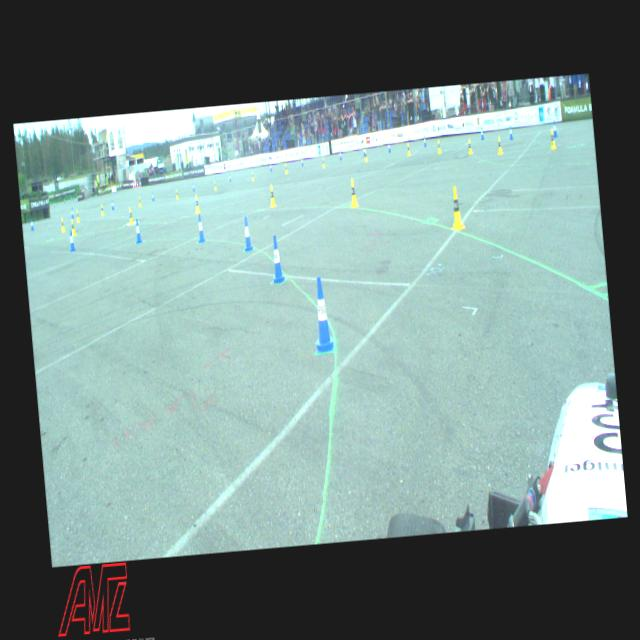blue_cone: (311, 276, 334, 352), (270, 235, 284, 282), (242, 216, 252, 250), (195, 213, 205, 242), (134, 218, 142, 242), (68, 230, 74, 250), (552, 121, 557, 137), (508, 124, 513, 139), (29, 218, 34, 230), (480, 126, 484, 139), (110, 198, 114, 210), (423, 134, 427, 146), (362, 145, 366, 156), (70, 207, 74, 218), (300, 155, 304, 166), (338, 149, 342, 160), (151, 190, 154, 200), (228, 170, 230, 182), (270, 160, 272, 172), (388, 141, 390, 152), (192, 182, 194, 190)
yellow_cone: (449, 186, 463, 230), (349, 178, 358, 207), (268, 184, 276, 206), (193, 194, 200, 213), (549, 128, 555, 148), (436, 138, 442, 154), (497, 136, 502, 154), (70, 218, 75, 235), (467, 138, 472, 154), (60, 216, 65, 232), (128, 206, 132, 224), (75, 208, 80, 222), (406, 142, 411, 155), (100, 202, 104, 215), (138, 195, 141, 207), (284, 162, 287, 174), (364, 149, 367, 161), (250, 170, 253, 181), (175, 188, 178, 198), (322, 156, 324, 168), (214, 179, 216, 190)
